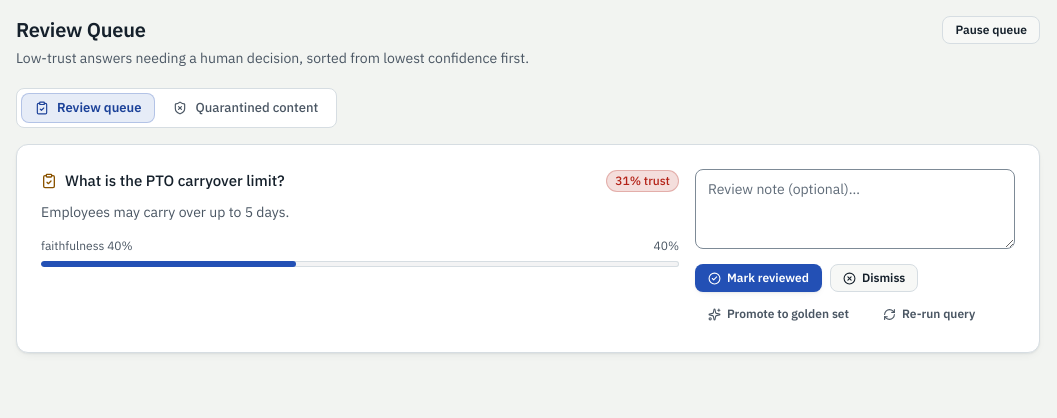
Test case: ReviewQueuePage › shows the plain empty state when nothing is quarantined
Click the tab "Quarantined content": [246, 108] box [160,93,332,123]
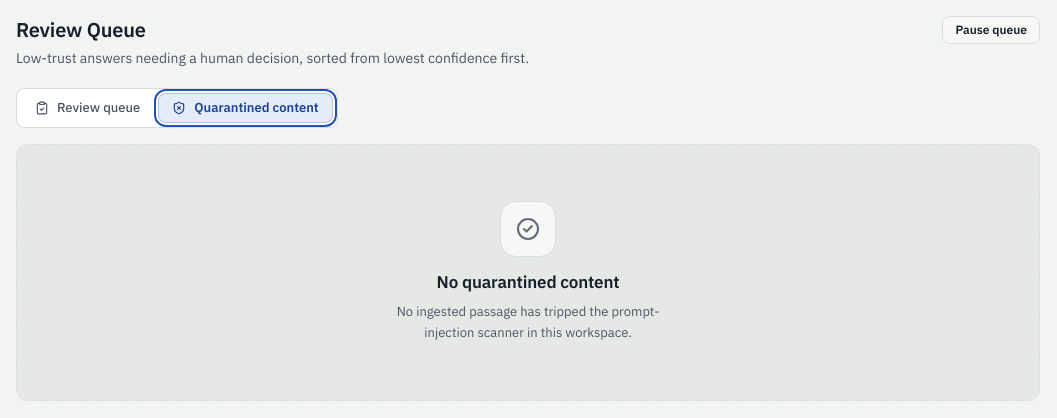
Result: the heading "No quarantined content" is shown at [437,269,619,296]
